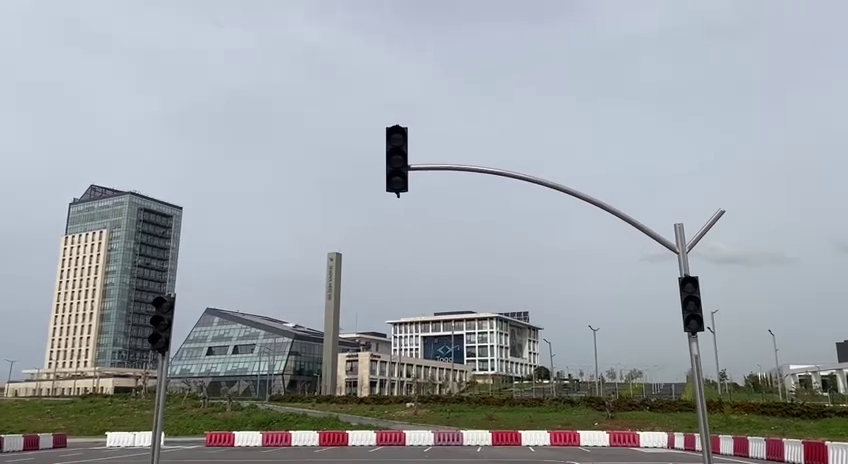trafficLight: (379, 119, 414, 201), (675, 271, 708, 337), (147, 288, 179, 356)
